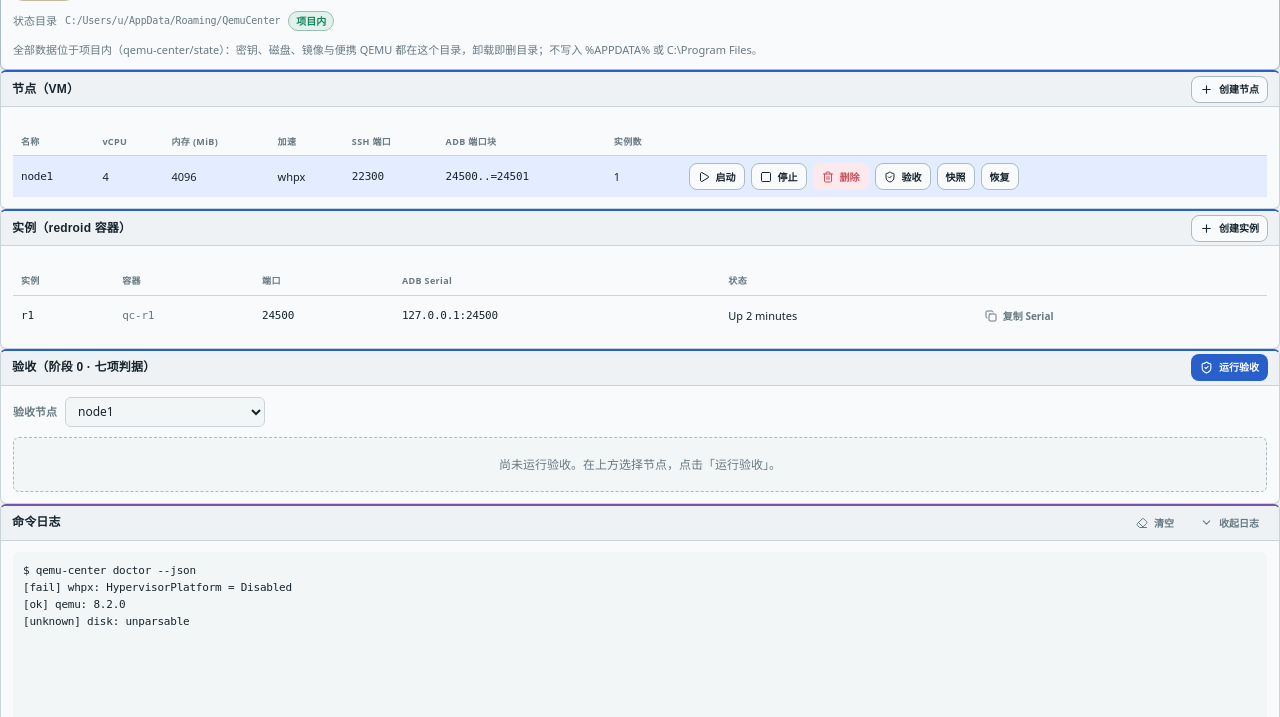
Test: QemuCenterPage › renders verify verdicts and explains that UNTESTED is not a failure
(page scrolled)
Click the button "验收" at [902, 177], box [874,164,930,190]
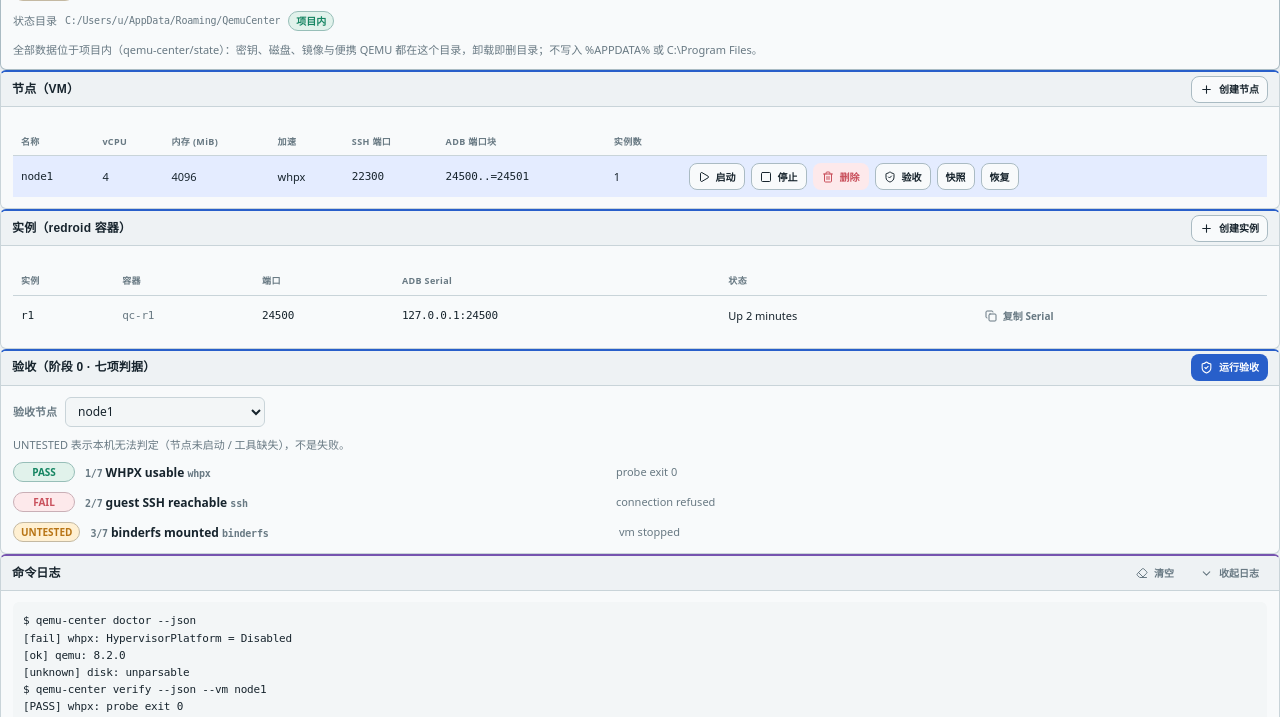
Result: the text "PASS" is shown at [13,462,75,482]
Result: the text "FAIL" is shown at [13,492,75,512]
Result: the text "UNTESTED" is shown at [13,522,80,542]
